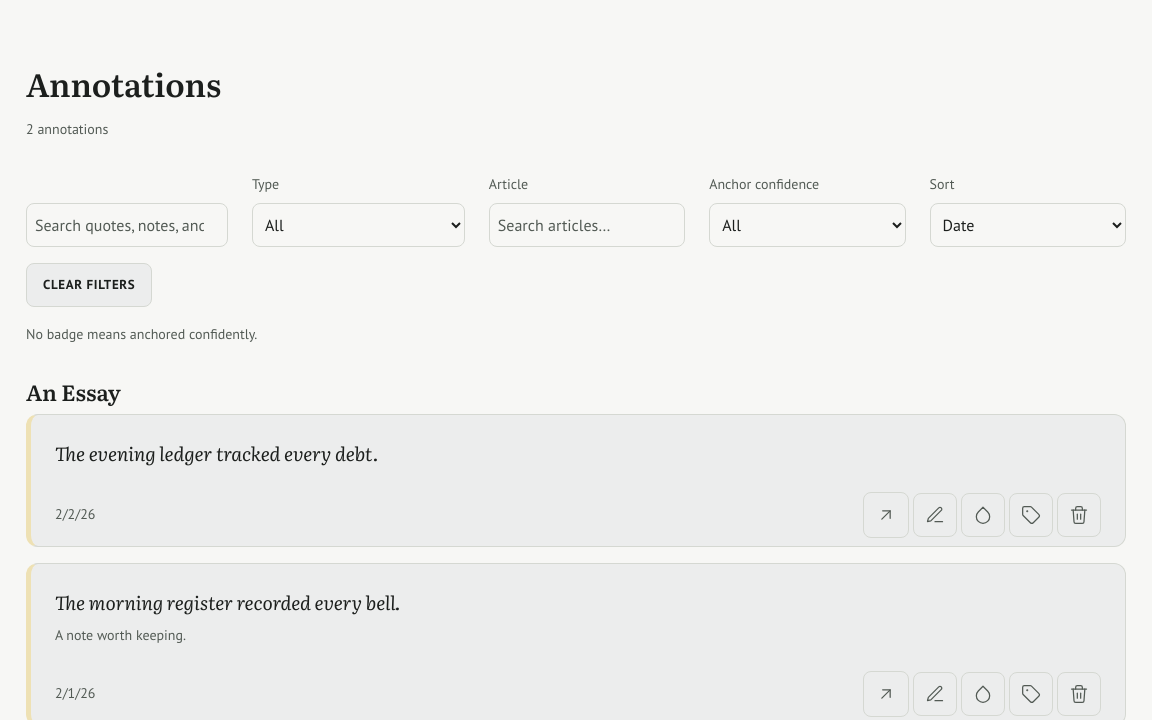
Test: ReviewView removal routing (issue #174 — proportional delete) › confirm-path removal ALSO hands focus to the neighboring row's Remove button
The width and height of the screenshot is (1152, 720).
Click the button named "Remove highlight: The morning register recorded every bell.".
click(1079, 694)  # box [1057,672,1101,716]
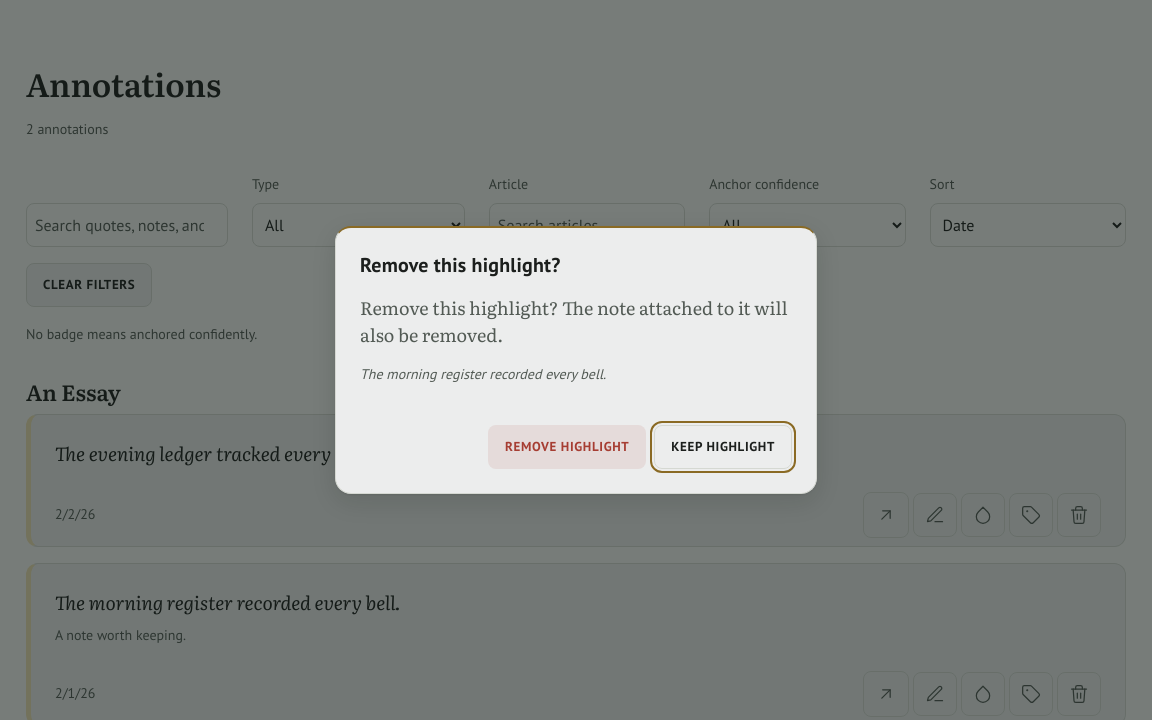
Click the button "Remove highlight".
click(567, 447)  # box [488,425,646,469]
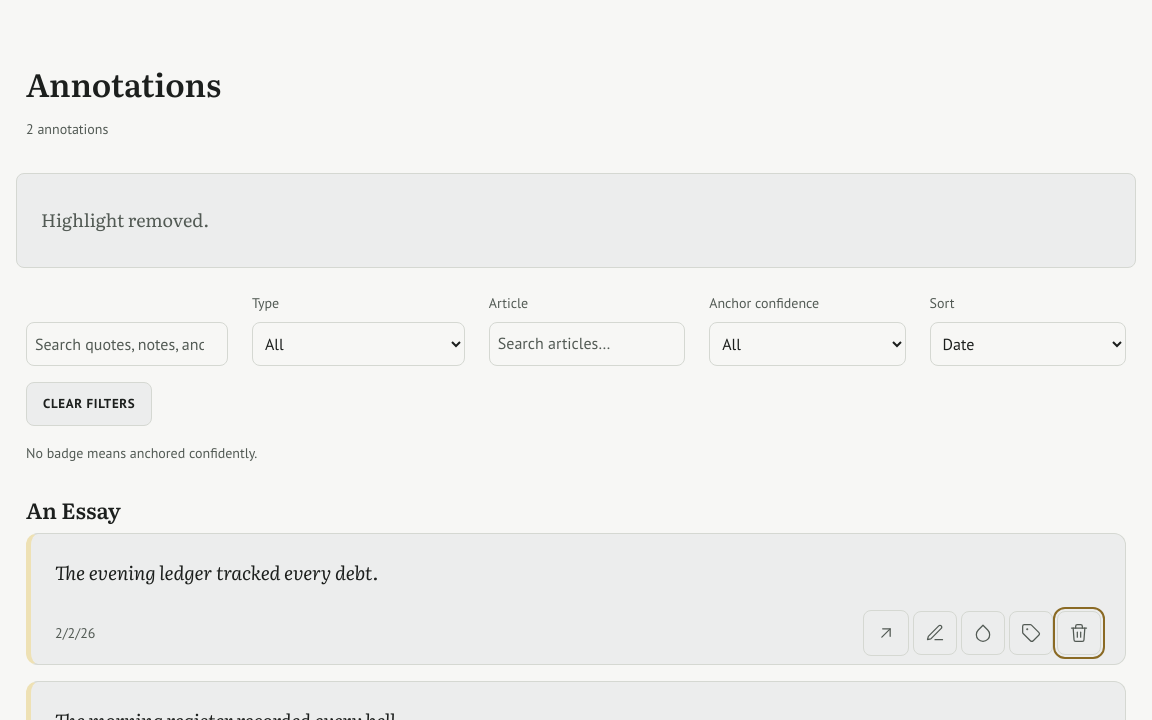
Result: the dialog is gone
Result: the text "Highlight removed." is shown at [41,206,209,233]
